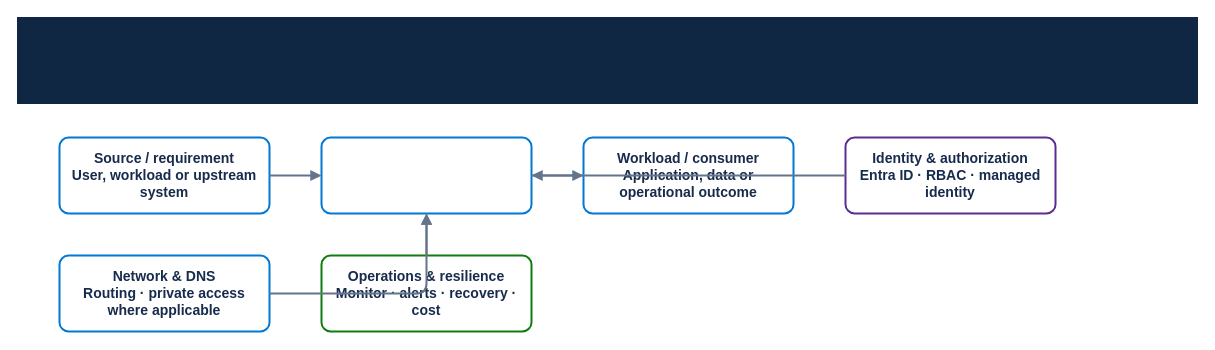
This 1215x350 diagram has some shape labels left out. The shapes that lost their labels are listed below. From the top down, each one's box as (x1, y1, x2, y2) in pixels, then its label:
(16, 16, 1198, 104): Microsoft Entra ID tenants
(320, 136, 532, 214): Microsoft Entra ID tenants Azure service / architecture control
